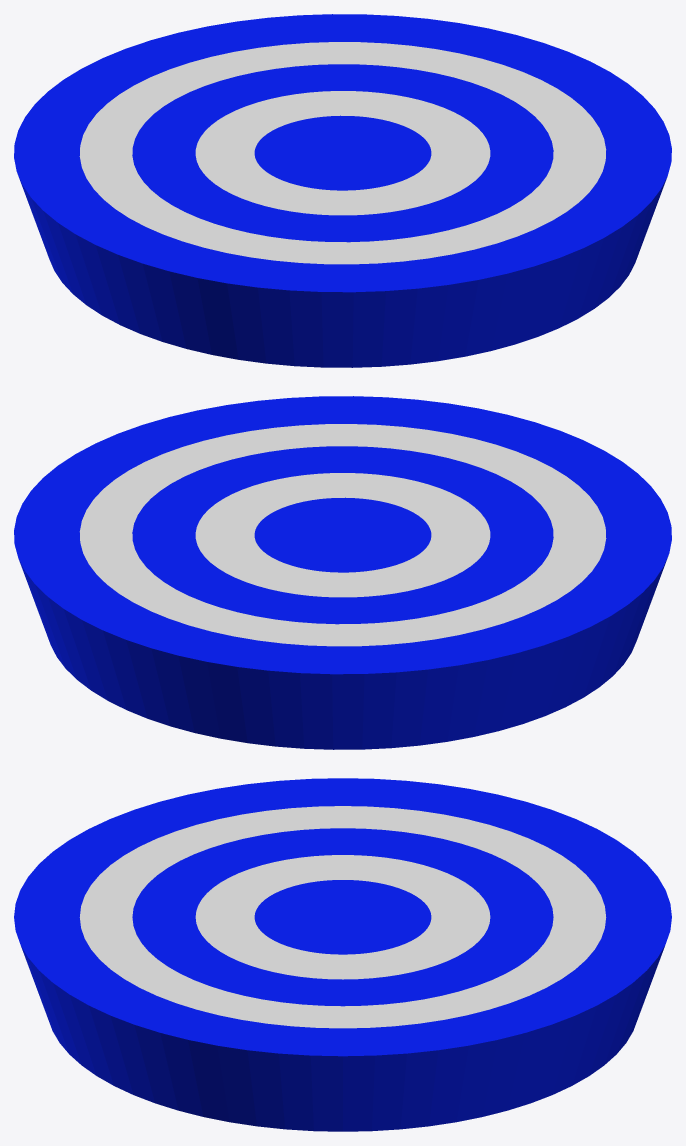
Rendered from Board_Blue.fbx.
3 views of the same model, one above another, from view 1: azimuth 30°, elevation 25°; view 2: azimuth 150°, elevation 25°; view 3: azimuth 270°, elevation 25° (orthographic).
Visible parts, largest first — view 1: Board_Blue; view 2: Board_Blue; view 3: Board_Blue.
Boxes of the visible parts, x1,y1,x2,y2 form: Board_Blue: (14,14,671,367); Board_Blue: (14,396,671,749); Board_Blue: (14,778,671,1131).
Bounding box in the file's own units: 200 × 30 × 200.
